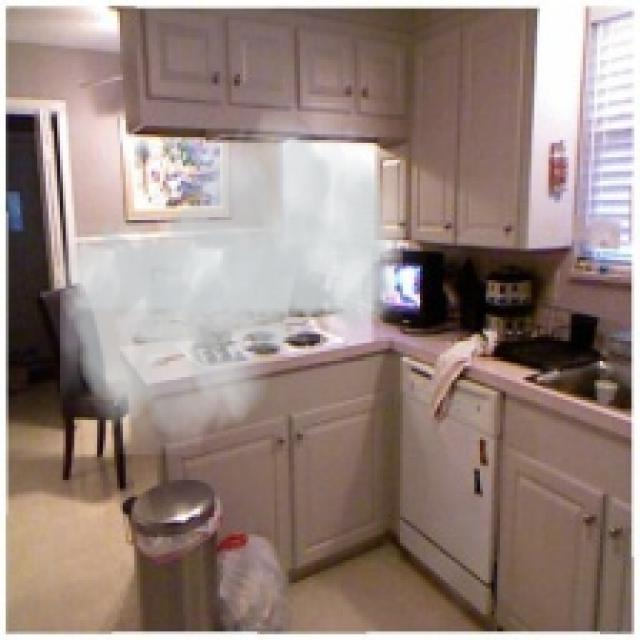smoke: (60, 103, 403, 454)
